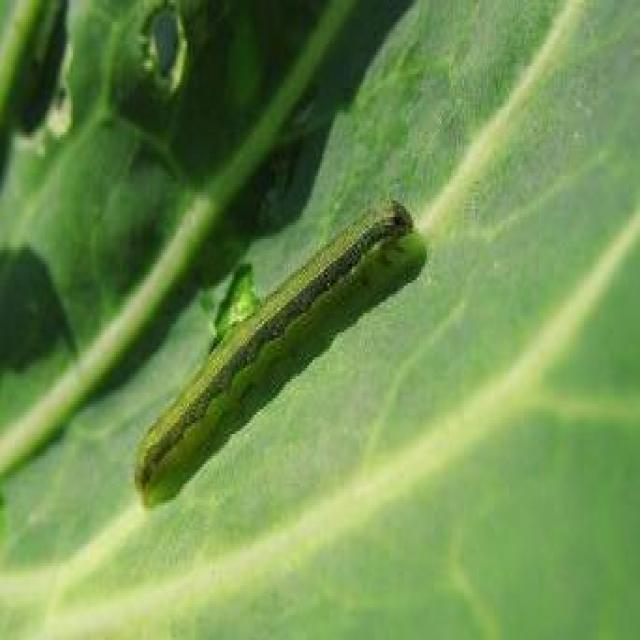armyworm: (126, 183, 424, 523)
